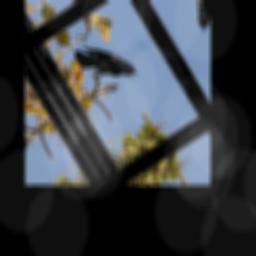Crow: (72, 28, 139, 99)
